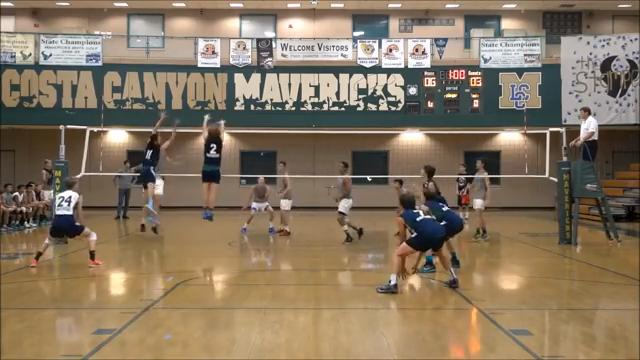Block: (128, 103, 181, 223), (193, 113, 231, 226)
Player: (377, 193, 458, 293), (31, 177, 102, 266), (424, 191, 463, 267), (334, 161, 363, 242), (241, 177, 275, 233), (472, 158, 489, 240), (277, 161, 292, 235), (421, 165, 447, 203), (421, 165, 446, 203), (456, 164, 471, 220)
ball: (264, 58, 275, 71)
